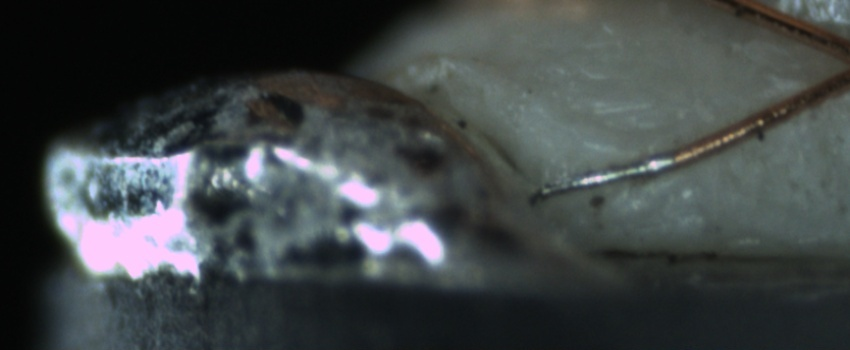CL: (828, 33, 850, 92)
TS: (540, 151, 675, 195)
TTCW: (527, 133, 732, 206)
